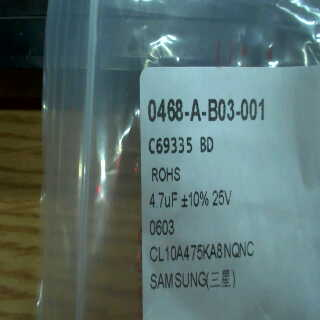4.7uF: (145, 187, 180, 214)
